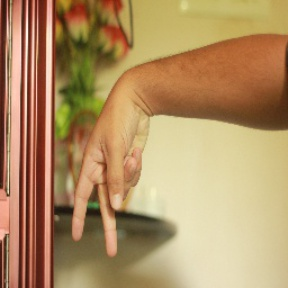Y: (67, 89, 156, 263)
